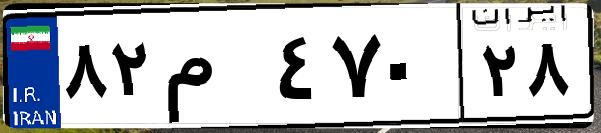0: (385, 28, 445, 110)
2: (475, 38, 525, 113), (110, 28, 158, 98)
4: (270, 28, 330, 110)
7: (330, 28, 385, 110)
8: (57, 26, 110, 100), (525, 38, 570, 115)
م: (158, 20, 270, 120)
